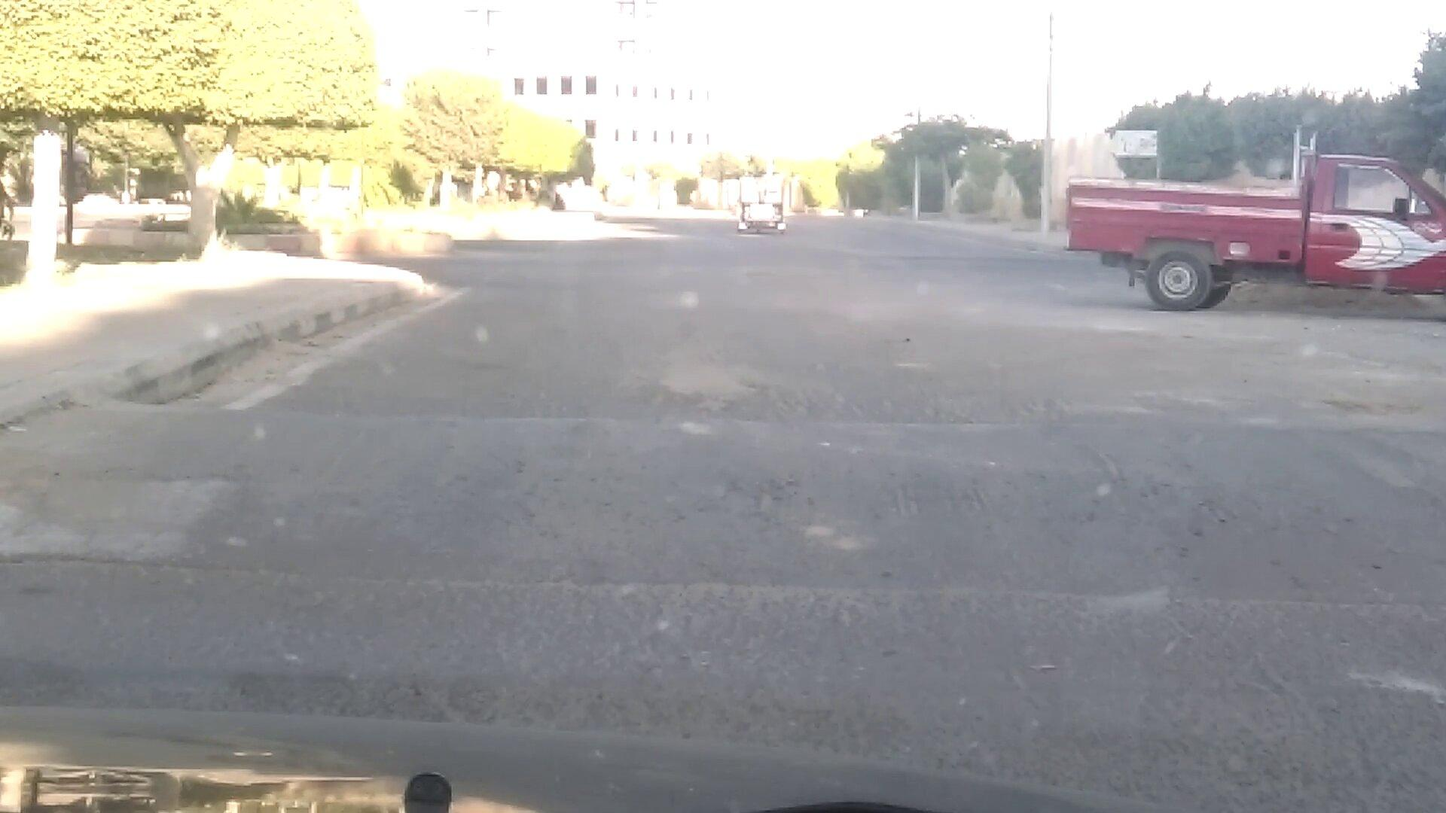Bump: (62, 391, 1446, 602)
